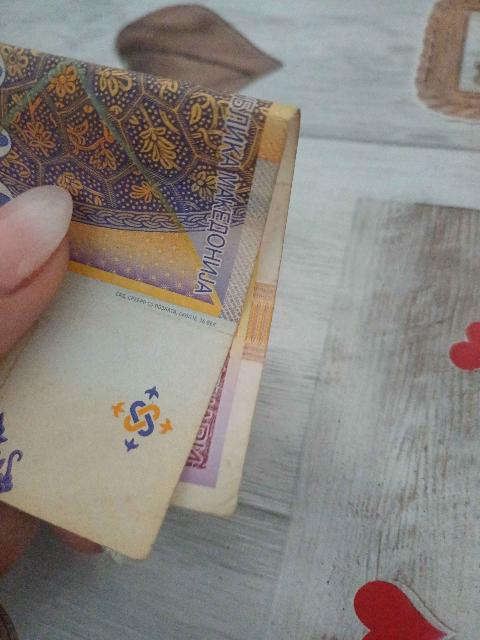2000_note: (0, 47, 297, 543)
